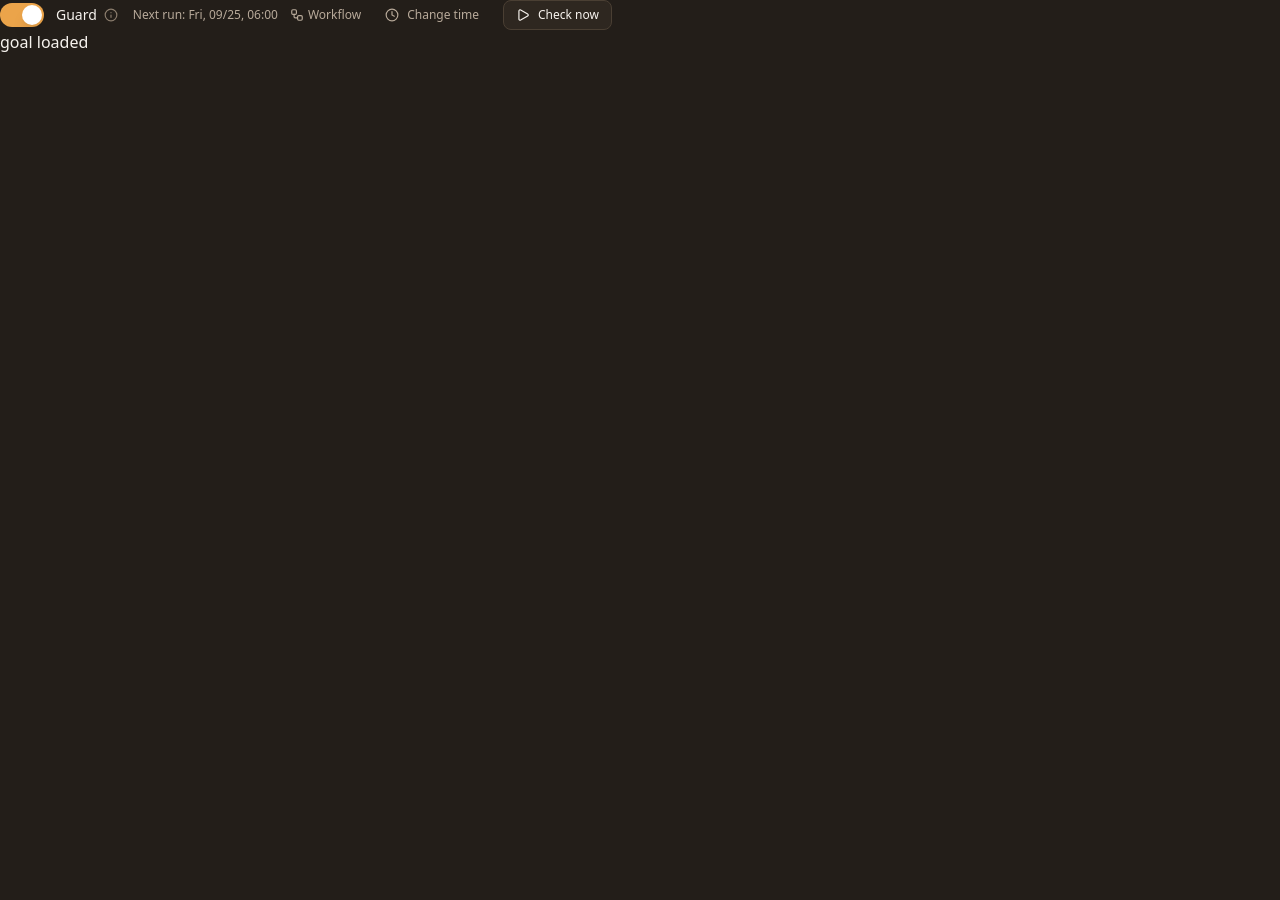
it: GoalGuardControl › changing the time › sets the new time of day on the schedule and keeps the guard as it is
Click the button "Change time" at (432, 15), box [373,1,491,29]
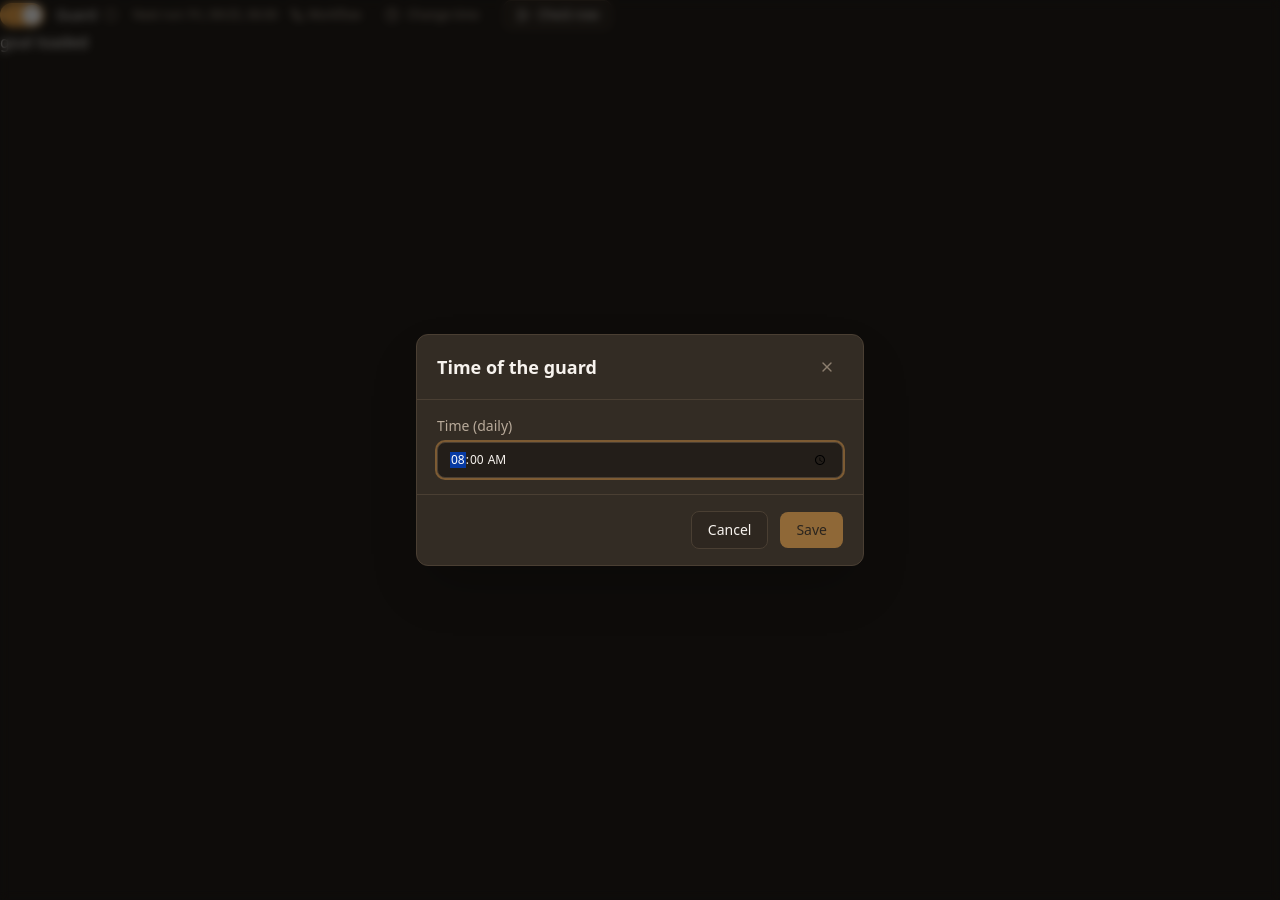
expect the time field labelled "Time (daily)" holds "08:00": met
expect the button "Save" is disabled: met, box [780,512,843,548]
Replace the text in the time field labelled "Time (daily)" with "06:45" at (640, 460), box [437,442,843,478]
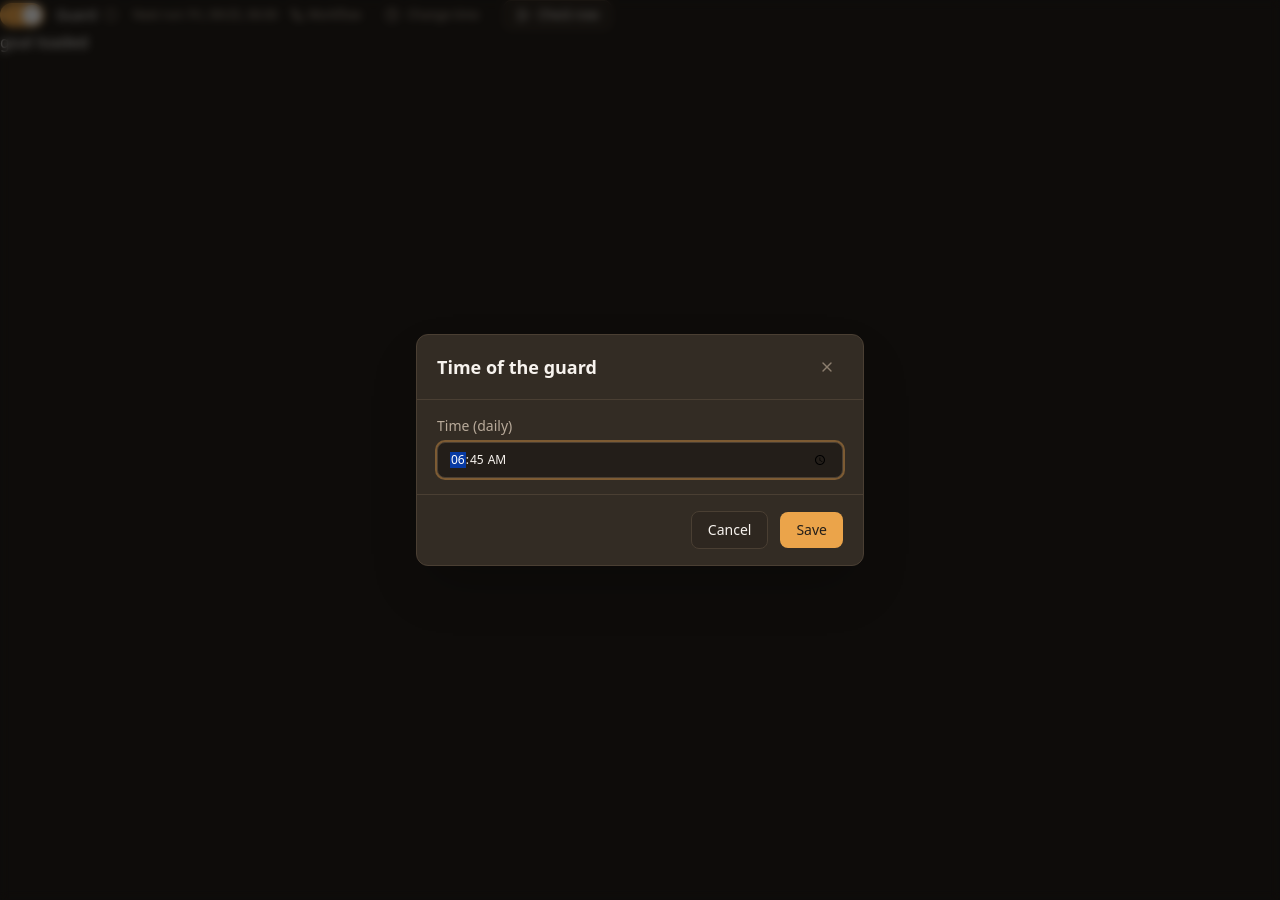
Click the button "Save" at (812, 530), box [780,512,843,548]
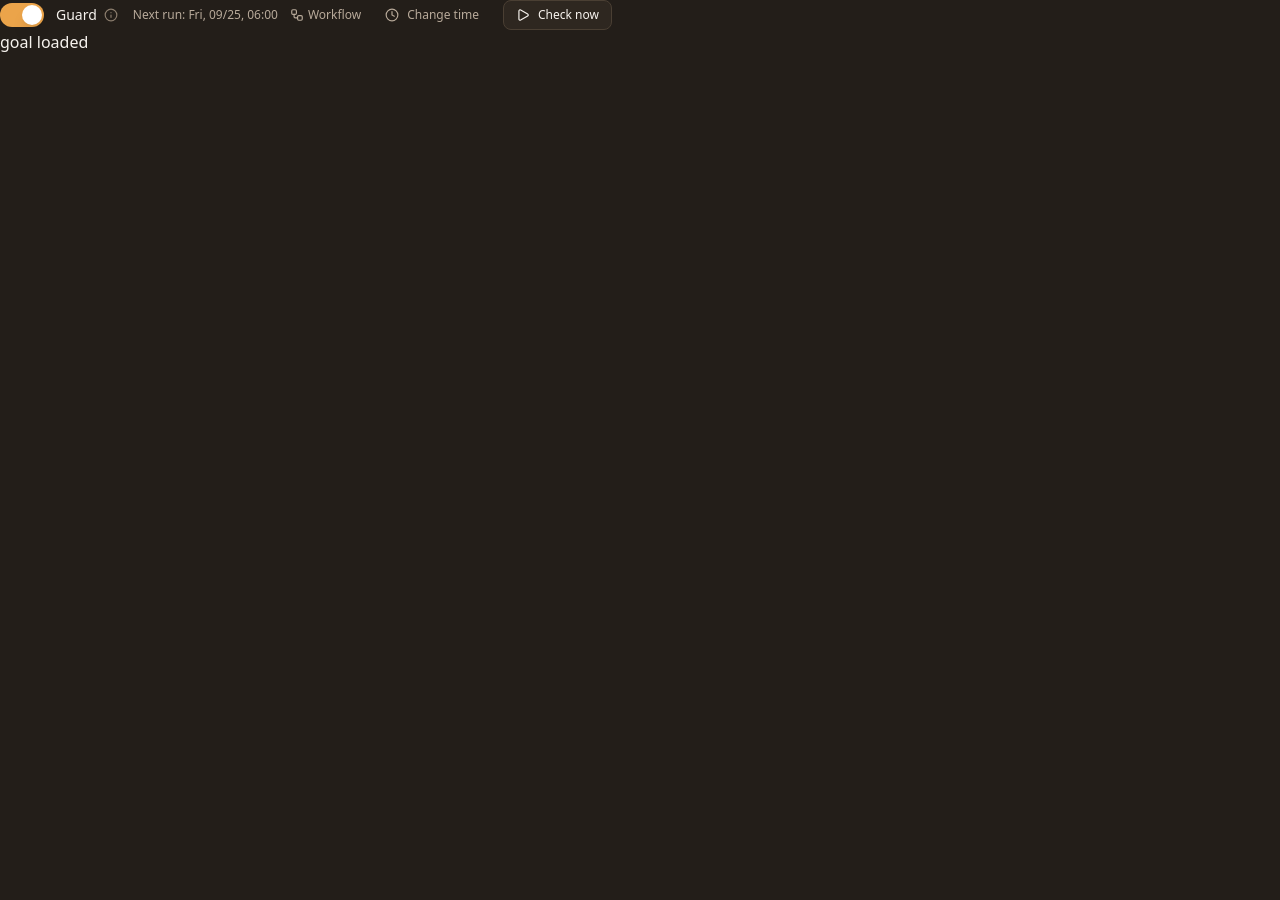
expect the dialog is gone: met
